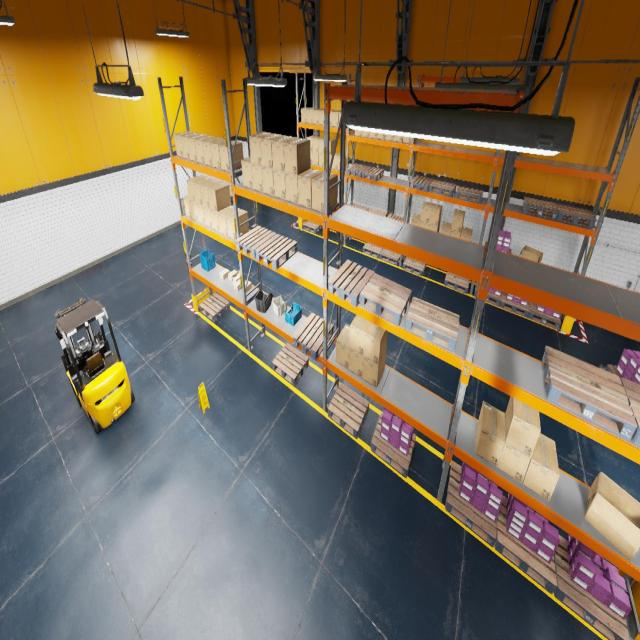box: (584, 472, 640, 560), (523, 434, 559, 502), (498, 414, 530, 484), (505, 397, 541, 458), (475, 401, 505, 467), (311, 172, 338, 212), (363, 322, 388, 365), (362, 347, 387, 388), (298, 168, 323, 208), (284, 137, 310, 175), (271, 136, 297, 172), (349, 314, 370, 356), (249, 132, 274, 166), (260, 134, 284, 168), (219, 140, 243, 172), (207, 182, 231, 211), (210, 139, 233, 169), (226, 209, 248, 240), (194, 136, 217, 164), (202, 137, 224, 166), (336, 324, 350, 369), (218, 205, 238, 236), (187, 134, 209, 162), (200, 180, 221, 208), (174, 131, 195, 158), (193, 177, 213, 205), (180, 133, 201, 159), (186, 175, 206, 202), (349, 348, 363, 378), (285, 172, 298, 204), (519, 245, 543, 262), (273, 170, 286, 200), (241, 157, 253, 188), (262, 167, 274, 196), (251, 164, 263, 192), (451, 209, 465, 232), (429, 203, 442, 225), (420, 201, 433, 223), (210, 209, 220, 232), (183, 194, 192, 218), (196, 202, 205, 225), (203, 206, 212, 228), (312, 136, 324, 152), (337, 154, 348, 170), (312, 108, 322, 125), (190, 200, 198, 221), (460, 227, 472, 241), (307, 135, 317, 151), (301, 107, 311, 123), (440, 222, 452, 235), (331, 153, 340, 170), (332, 110, 341, 127), (338, 112, 347, 127), (307, 108, 316, 123), (428, 221, 440, 232), (242, 280, 252, 292), (450, 228, 462, 238), (329, 138, 336, 155), (411, 213, 420, 226), (228, 270, 238, 281), (220, 268, 229, 280), (232, 270, 240, 283), (402, 136, 415, 144), (233, 279, 241, 291), (318, 138, 324, 154), (330, 110, 336, 126), (419, 221, 429, 229), (319, 109, 324, 125), (318, 153, 324, 166), (313, 152, 318, 165), (393, 135, 402, 142), (385, 134, 394, 141), (378, 133, 386, 139), (370, 132, 378, 138), (362, 131, 369, 137), (355, 130, 362, 136), (310, 151, 312, 164), (330, 155, 330, 167)
forklift: (54, 297, 135, 434)
pallets: (542, 345, 637, 441), (553, 534, 630, 640), (494, 495, 557, 594), (445, 460, 496, 547), (370, 411, 416, 478), (405, 297, 459, 352), (359, 274, 412, 326), (328, 383, 369, 438), (328, 260, 374, 307), (293, 313, 333, 360), (255, 233, 297, 270), (272, 343, 308, 386), (620, 378, 640, 446), (236, 226, 276, 258), (556, 203, 596, 228), (199, 292, 230, 322), (528, 302, 561, 330), (500, 292, 530, 318), (523, 197, 558, 219), (474, 282, 501, 306), (444, 272, 470, 294), (455, 186, 483, 203), (429, 180, 456, 197), (403, 257, 426, 276), (410, 175, 434, 192), (379, 248, 400, 266), (362, 242, 382, 258), (485, 242, 511, 254), (362, 167, 384, 180), (347, 164, 368, 177), (303, 220, 322, 233), (606, 364, 622, 378), (368, 208, 387, 216), (388, 213, 403, 221), (351, 204, 369, 210)
